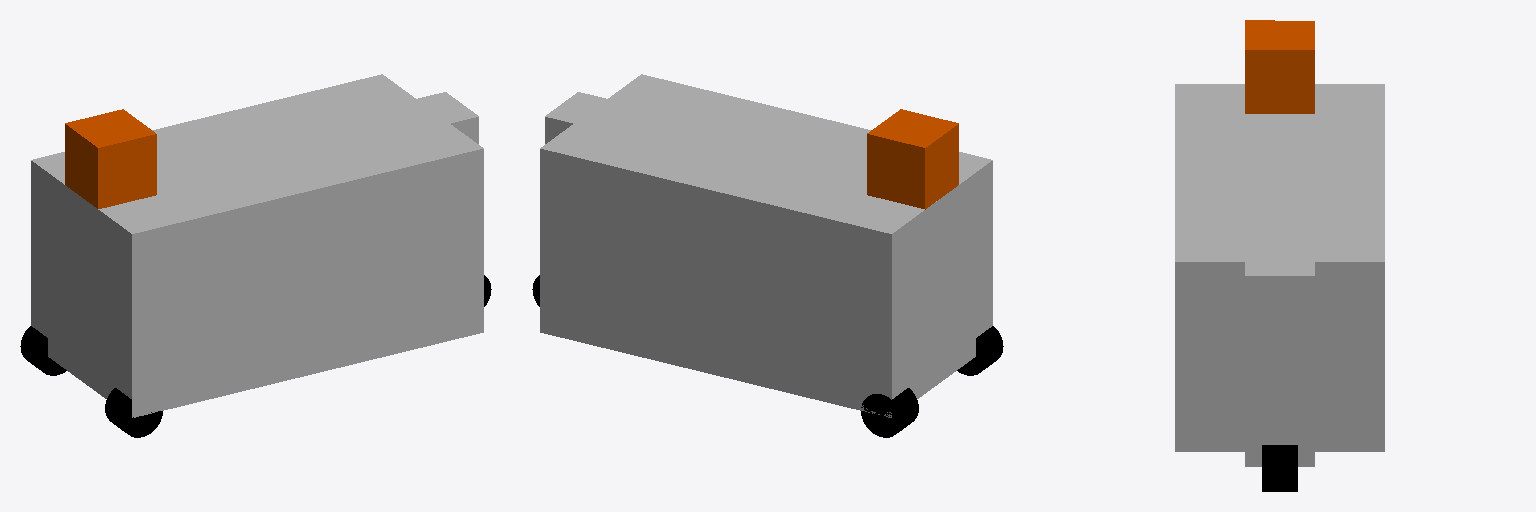
The robot description file, URDF, robot "differential_robot":
<?xml version="1.0"?>
<robot name="differential_robot">

  <link name="base_link">
    <visual>
      <geometry>
        <box size="0.6 0.3 0.3"/>
      </geometry>
      <material name="silver">
        <color rgba="0.75 0.75 0.75 1"/>
      </material>
    </visual>
    <collision>
      <geometry>
        <box size="0.6 0.3 0.3"/>
      </geometry>
    </collision>
    <inertial>
      <mass value="1.0"/>
      <inertia ixx="0.015" iyy="0.0375" izz="0.0375" ixy="0" ixz="0" iyz="0"/>
    </inertial>
  </link>

  <link name="front_caster">
    <visual>
      <geometry>
        <box size="0.1 0.1 0.3"/>
      </geometry>
      <material name="silver"/>
    </visual>
    <collision>
      <geometry>
        <box size="0.1 0.1 0.3"/>
      </geometry>
    </collision>
    <inertial>
      <mass value="0.1"/>
      <inertia ixx="0.00083" iyy="0.00083" izz="0.000167" ixy="0" ixz="0" iyz="0"/>
    </inertial>
  </link>

  <joint name="front_caster_joint" type="continuous">
    <axis xyz="0 0 1"/>
    <parent link="base_link"/>
    <child link="front_caster"/>
    <origin rpy="0 0 0" xyz="0.3 0 0"/>
  </joint>

  <link name="front_wheel">
    <visual>
      <geometry>
        <cylinder length="0.05" radius="0.035"/>
      </geometry>
      <material name="black"/>
    </visual>
    <collision>
      <geometry>
        <cylinder length="0.05" radius="0.035"/>
      </geometry>
    </collision>
    <inertial>
      <mass value="0.1"/>
      <inertia ixx="5.1458e-5" iyy="5.1458e-5" izz="6.125e-5" ixy="0" ixz="0" iyz="0"/>
    </inertial>
  </link>

  <joint name="front_wheel_joint" type="continuous">
    <axis xyz="0 0 1"/>
    <parent link="front_caster"/>
    <child link="front_wheel"/>
    <origin rpy="-1.5708 0 0" xyz="0.05 0 -.15"/>
  </joint>

  <link name="right_wheel">
    <visual>
      <geometry>
        <cylinder length="0.05" radius="0.035"/>
      </geometry>
      <material name="black">
        <color rgba="0 0 0 1"/>
      </material>
    </visual>
    <collision>
      <geometry>
        <cylinder length="0.05" radius="0.035"/>
      </geometry>
    </collision>
    <inertial>
      <mass value="0.1"/>
      <inertia ixx="5.1458e-5" iyy="5.1458e-5" izz="6.125e-5" ixy="0" ixz="0" iyz="0"/>
    </inertial>
  </link>

  <joint name="right_wheel_joint" type="continuous">
    <axis xyz="0 0 1"/>
    <parent link="base_link"/>
    <child link="right_wheel"/>
    <origin rpy="-1.5708 0 0" xyz="-0.2825 -0.125 -.15"/>
  </joint>

  <link name="left_wheel">
    <visual>
      <geometry>
        <cylinder length="0.05" radius="0.035"/>
      </geometry>
      <material name="black"/>
    </visual>
    <collision>
      <geometry>
        <cylinder length="0.05" radius="0.035"/>
      </geometry>
    </collision>
    <inertial>
      <mass value="0.1"/>
      <inertia ixx="5.1458e-5" iyy="5.1458e-5" izz="6.125e-5" ixy="0" ixz="0" iyz="0"/>
    </inertial>
  </link>

  <joint name="left_wheel_joint" type="continuous">
    <axis xyz="0 0 1"/>
    <parent link="base_link"/>
    <child link="left_wheel"/>
    <origin rpy="-1.5708 0 0" xyz="-0.2825 0.125 -.15"/>
  </joint>


<link name="hokuyo_link">
    <collision>
      <origin xyz="0 0 0" rpy="0 0 0"/>
      <geometry>
        <box size="0.1 0.1 0.1"/>
      </geometry>
    </collision>
    <visual>
      <origin xyz="0 0 0" rpy="0 0 0"/>
      <geometry>
        <box size="0.1 0.1 0.1"/>
      </geometry>
    </visual>
    <inertial>
      <mass value="1e-5" />
      <origin xyz="0 0 0" rpy="0 0 0"/>
      <inertia ixx="1e-6" ixy="0" ixz="0" iyy="1e-6" iyz="0" izz="1e-6" />
    </inertial>
  </link>

  <joint name="hokuyo_joint" type="fixed">
    <axis xyz="0 1 0" />
    <origin xyz="-0.25 0 0.2" rpy="0 0 3.14"/>
    <parent link="base_link"/>
    <child link="hokuyo_link"/>
  </joint>

 <gazebo>
    <plugin name="joint_state_publisher" filename="libgazebo_ros_joint_state_publisher.so">
      <jointName>front_caster_joint, front_wheel_joint</jointName>
    </plugin>
  </gazebo>

  <gazebo>
    <plugin name="differential_drive_controller" filename="libgazebo_ros_diff_drive.so">
      <leftJoint>left_wheel_joint</leftJoint>
      <rightJoint>right_wheel_joint</rightJoint>
      <robotBaseFrame>base_link</robotBaseFrame>
      <wheelSeparation>0.25</wheelSeparation>
      <wheelDiameter>0.07</wheelDiameter>
      <publishWheelJointState>true</publishWheelJointState>
    </plugin>
  </gazebo>

  <gazebo reference="hokuyo_link">
    <sensor type="ray" name="hokuyo">
      <pose>0 0 0 0 0 0</pose>
      <visualize>false</visualize>
      <update_rate>40</update_rate>
      <ray>
        <scan>
          <horizontal>
            <samples>720</samples>
            <resolution>1</resolution>
            <min_angle>-1.570796</min_angle>
            <max_angle>1.570796</max_angle>
          </horizontal>
        </scan>
        <range>
          <min>0.10</min>
          <max>30.0</max>
          <resolution>0.01</resolution>
        </range>
      </ray>
      <plugin name="gpu_laser" filename="libgazebo_ros_laser.so">
        <topicName>/scan</topicName>
        <frameName>hokuyo_link</frameName>
      </plugin>
    </sensor>
  </gazebo>
</robot>

--- Render facts (derived) ---
3 views of the same robot in one strip: view 1: azimuth 30°, elevation 25°; view 2: azimuth 150°, elevation 25°; view 3: azimuth 270°, elevation 25° (orthographic).
Model differential_robot with 6 links and 5 joints (4 continuous, 1 fixed), rooted at base_link, posed all joints at 0.
Visible links, largest first — view 1: base_link, hokuyo_link, front_caster, right_wheel, left_wheel; view 2: base_link, hokuyo_link, front_caster, left_wheel, right_wheel; view 3: base_link, front_caster, hokuyo_link, front_wheel.
Boxes of the visible links, box(x1,y1,x2,y2) form: base_link: box(31, 74, 483, 417); hokuyo_link: box(65, 109, 156, 208); front_caster: box(408, 92, 478, 143); right_wheel: box(105, 388, 162, 437); left_wheel: box(20, 326, 66, 375); base_link: box(540, 74, 992, 417); hokuyo_link: box(867, 109, 958, 209); front_caster: box(545, 92, 635, 143); left_wheel: box(861, 388, 918, 437); right_wheel: box(957, 326, 1003, 375); base_link: box(1175, 84, 1384, 451); front_caster: box(1245, 247, 1314, 466); hokuyo_link: box(1245, 20, 1314, 113); front_wheel: box(1262, 445, 1297, 491).
Size in the robot's own frame: 0.7025 by 0.3 by 0.435 metres.
Geometry: primitives only (box / cylinder / sphere), no mesh files.
